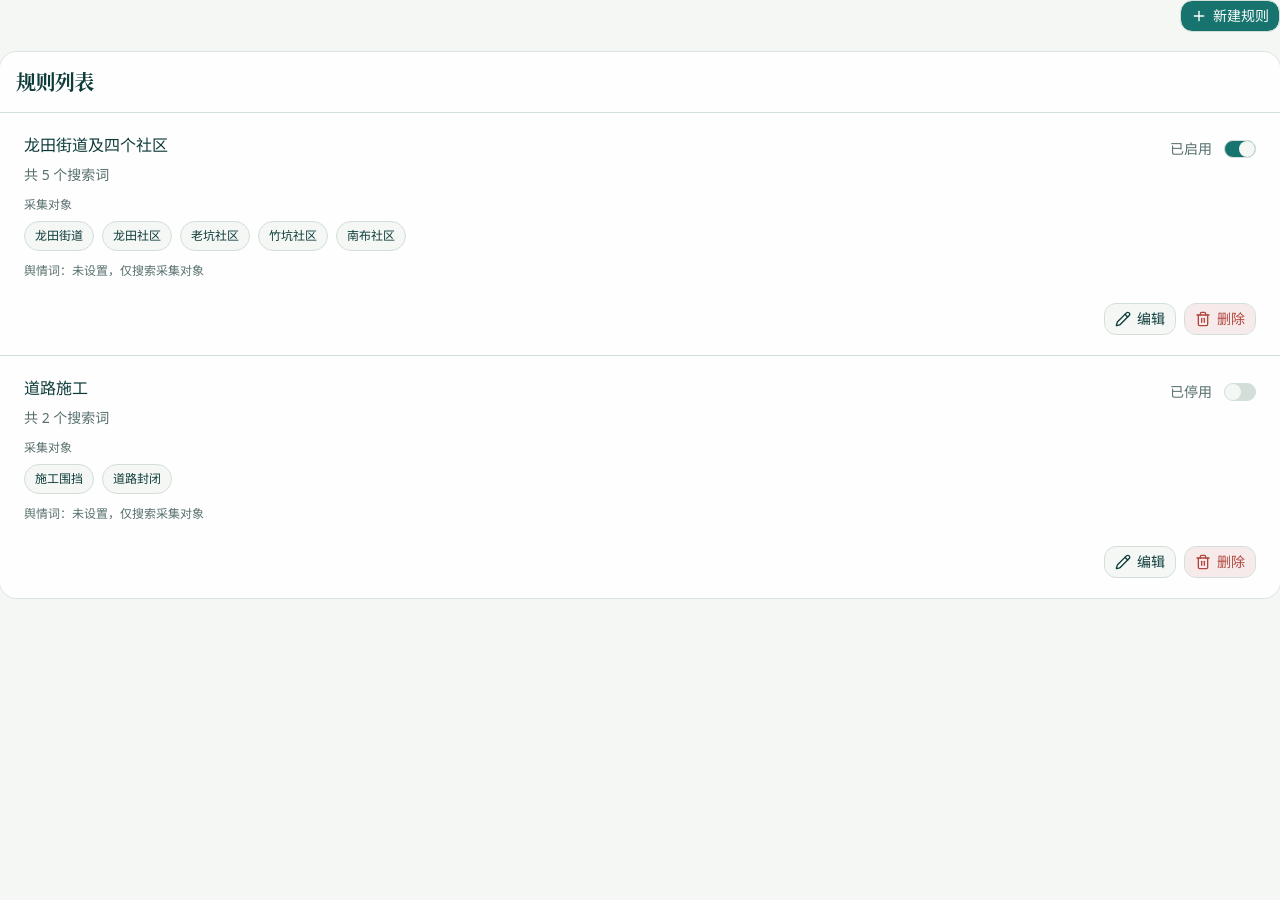
Scenario: monitoring rules route › shows numbered three-line placeholders without filling or saving the inputs
The width and height of the screenshot is (1280, 900).
Check: the heading "龙田街道及四个社区" is shown, box top-left (24, 134), bottom-right (168, 156)
What coordinates should you click on to do the following:
click the button "新建规则"
I would click on:
 (1230, 16)
Its box is top-left (1180, 0), bottom-right (1279, 32).
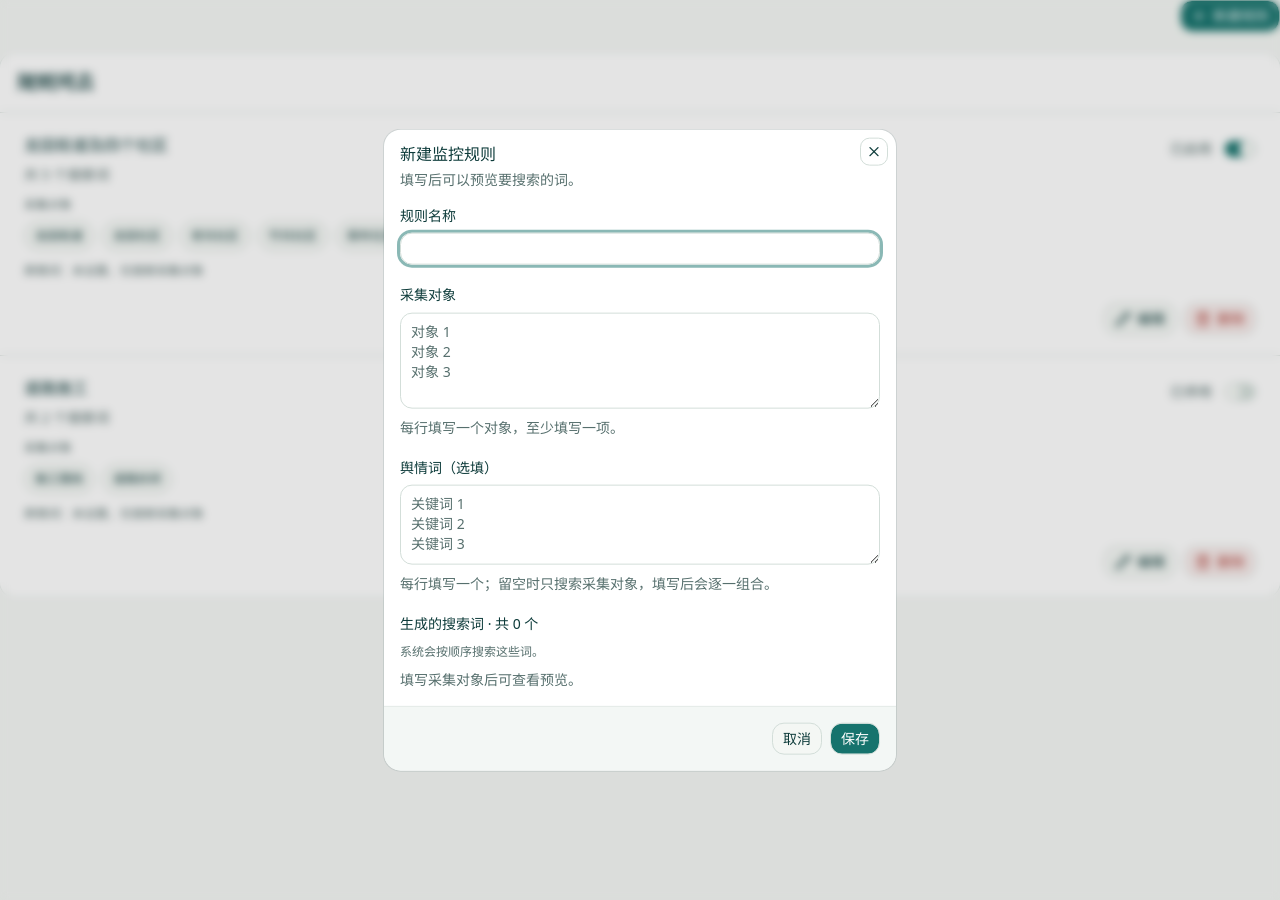
Check: the text box labelled "采集对象" is empty, box top-left (400, 312), bottom-right (880, 408)
Check: the text box labelled "舆情词（选填）" is empty, box top-left (400, 484), bottom-right (880, 564)
Check: the heading "生成的搜索词 · 共 0 个" is shown, box top-left (400, 613), bottom-right (538, 632)
